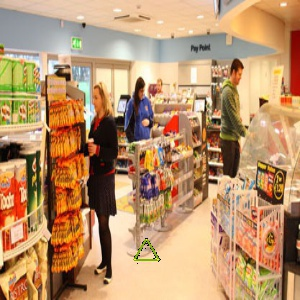triangle: (131, 235, 163, 265)
